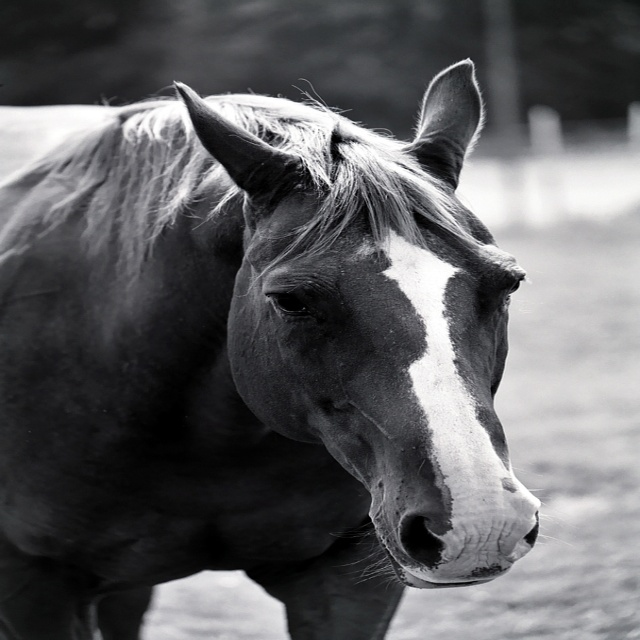Horse: (0, 57, 579, 639)
